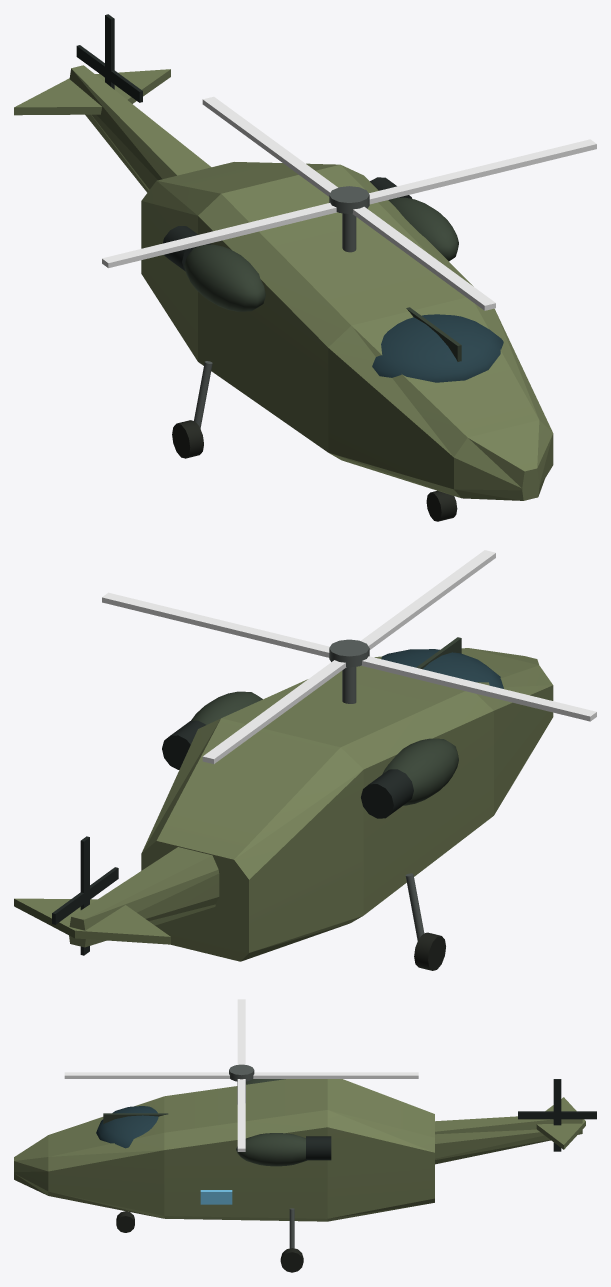
The model's file is transport.glb.
The picture shows the model from 3 angles, top to bottom: view 1: azimuth 30°, elevation 25°; view 2: azimuth 150°, elevation 25°; view 3: azimuth 270°, elevation 25°; orthographic projection. The views are drawn at different scales.
Visible parts, largest first — view 1: armor, equipment (×4), glass; view 2: armor, equipment (×4), glass; view 3: armor, equipment (×4), glass, marking.
Part boxes in pixels (x1=…): armor: x1=14, y1=65, x2=553, y2=500; equipment (×4): x1=76, y1=14, x2=596, y2=521; glass: x1=372, y1=314, x2=503, y2=382; armor: x1=14, y1=648, x2=553, y2=961; equipment (×4): x1=52, y1=550, x2=596, y2=970; glass: x1=381, y1=649, x2=503, y2=688; armor: x1=14, y1=1079, x2=585, y2=1221; equipment (×4): x1=64, y1=999, x2=596, y2=1272; glass: x1=96, y1=1106, x2=158, y2=1148; marking: x1=200, y1=1190, x2=232, y2=1204.
Size of the model in its own units: 5.6 by 2.86 by 9.23.
